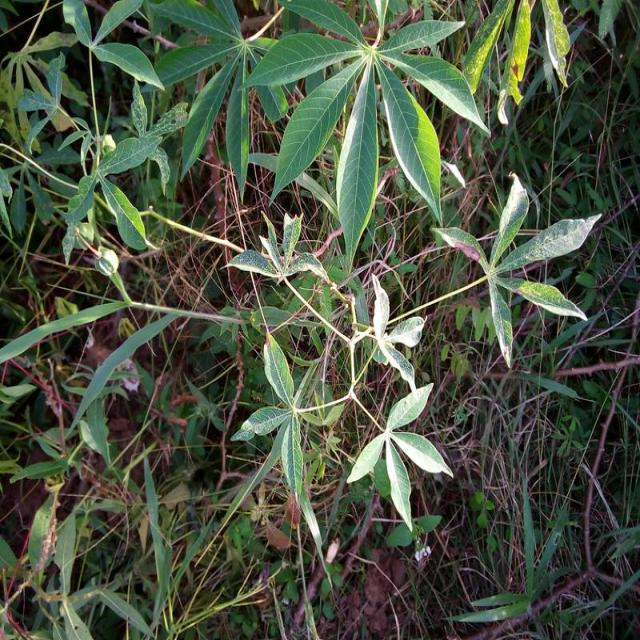cassava leaf: (240, 0, 491, 272)
